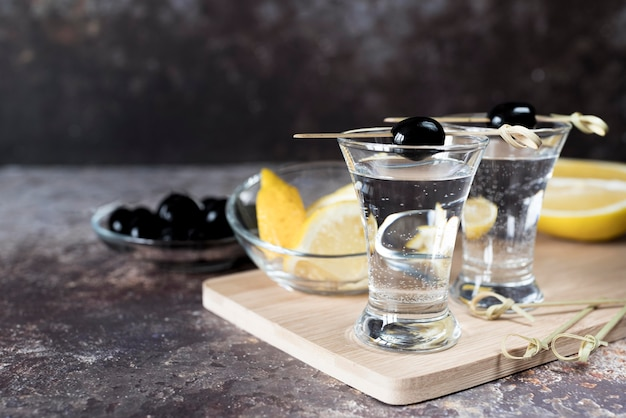alcohol: (336, 117, 491, 353), (431, 108, 574, 314)
